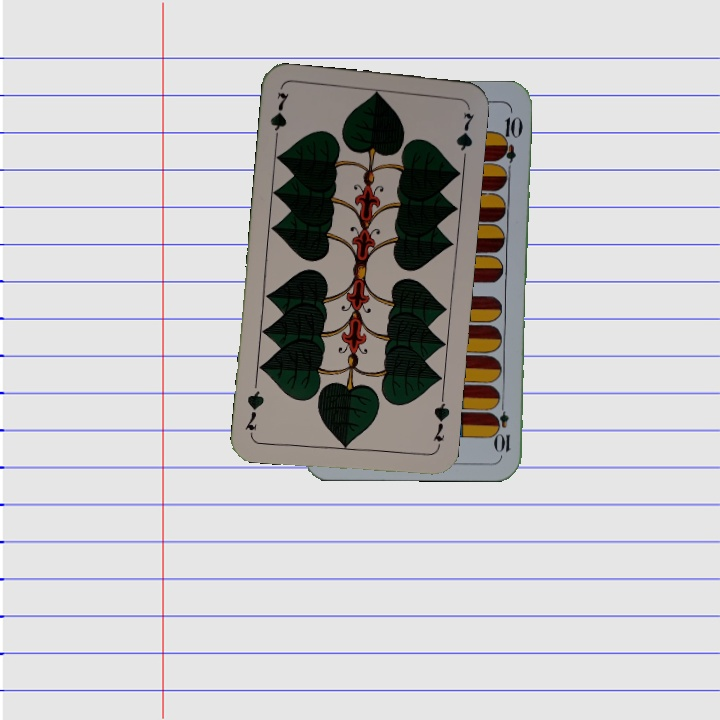E10: (495, 396, 513, 455)
G7: (266, 88, 292, 147), (429, 393, 453, 452)
